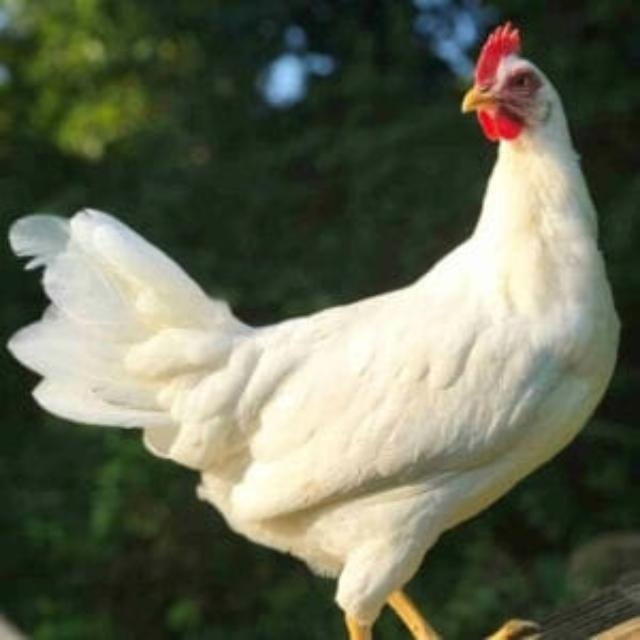Chicken: (0, 22, 623, 640)
